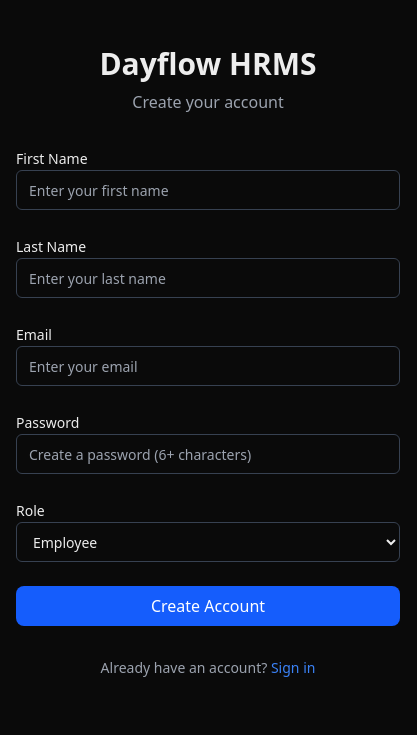
it: SignupPage › should display validation error for invalid email format
In the field labelled "Email": (208,366) [16, 346, 400, 386], type "invalid-email"
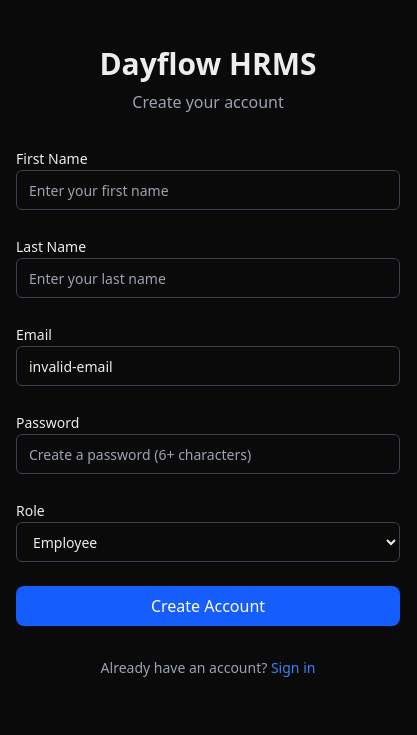
Submit the form
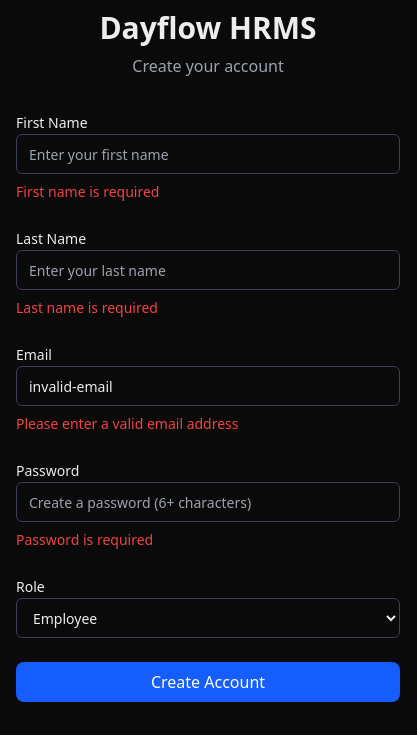
Expected: the text "Please enter a valid email address" is shown, [16, 414, 238, 433]
